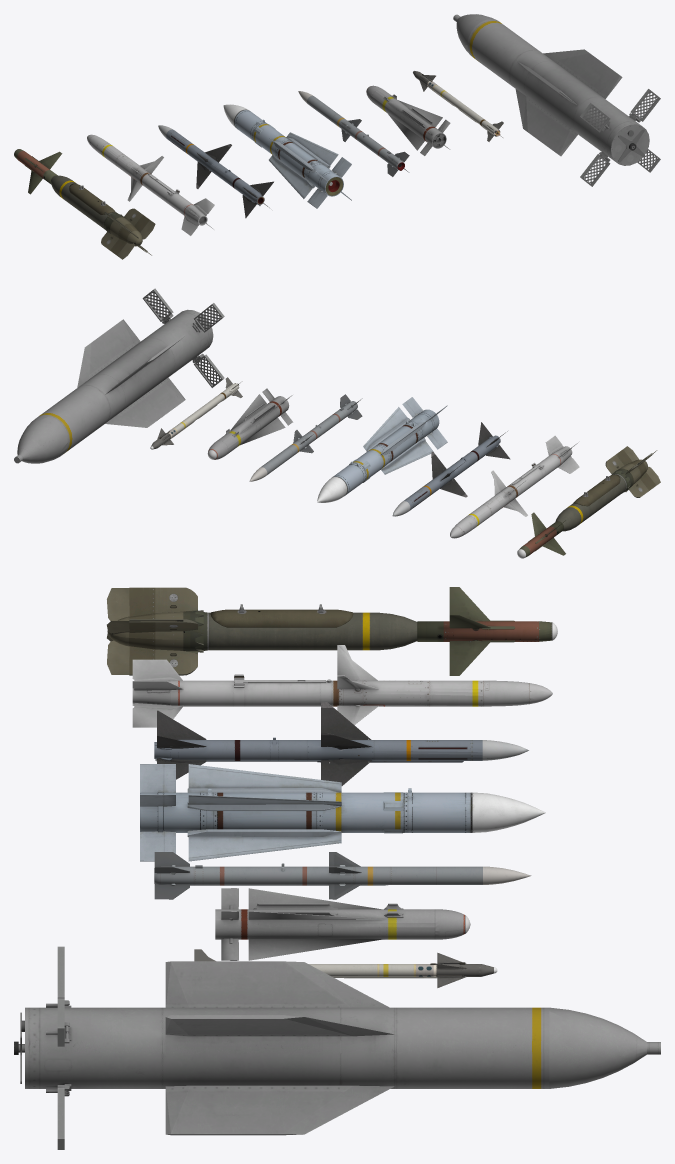
File: us_weapon.fbx
3 views of the same model, one above another, from view 1: azimuth 30°, elevation 25°; view 2: azimuth 150°, elevation 25°; view 3: azimuth 270°, elevation 25° (orthographic). The views are drawn at different scales.
Visible parts, largest first — view 1: us_gbu-57, us_aim-54, us_gbu-24b/b, us_agm-88, us_agm-65, us_aim-7, us_aim-120, us_aim-9x; view 2: us_gbu-57, us_aim-54, us_gbu-24b/b, us_agm-88, us_agm-65, us_aim-7, us_aim-120, us_aim-9x; view 3: us_gbu-57, us_aim-54, us_gbu-24b/b, us_agm-88, us_agm-65, us_aim-7, us_aim-120, us_aim-9x.
Part boxes in pixels (x1=…): us_gbu-57: x1=453, y1=14, x2=660, y2=186; us_aim-54: x1=223, y1=104, x2=351, y2=208; us_gbu-24b/b: x1=14, y1=149, x2=155, y2=259; us_agm-88: x1=87, y1=134, x2=214, y2=235; us_agm-65: x1=366, y1=85, x2=450, y2=155; us_aim-7: x1=158, y1=125, x2=273, y2=218; us_aim-120: x1=298, y1=91, x2=409, y2=176; us_aim-9x: x1=413, y1=71, x2=503, y2=141; us_gbu-57: x1=14, y1=288, x2=224, y2=463; us_aim-54: x1=317, y1=397, x2=447, y2=502; us_gbu-24b/b: x1=519, y1=446, x2=660, y2=557; us_agm-88: x1=450, y1=435, x2=579, y2=538; us_agm-65: x1=208, y1=388, x2=292, y2=459; us_aim-7: x1=392, y1=422, x2=510, y2=516; us_aim-120: x1=249, y1=394, x2=362, y2=481; us_aim-9x: x1=151, y1=377, x2=242, y2=449; us_gbu-57: x1=14, y1=946, x2=660, y2=1149; us_aim-54: x1=140, y1=764, x2=545, y2=861; us_gbu-24b/b: x1=107, y1=587, x2=552, y2=675; us_agm-88: x1=132, y1=645, x2=552, y2=727; us_agm-65: x1=215, y1=888, x2=465, y2=960; us_aim-7: x1=154, y1=702, x2=528, y2=785; us_aim-120: x1=154, y1=852, x2=531, y2=899; us_aim-9x: x1=194, y1=949, x2=493, y2=987.
Size of the model in its own units: 1078 by 163 by 631.
Materials: 11 (8 with a texture image).
